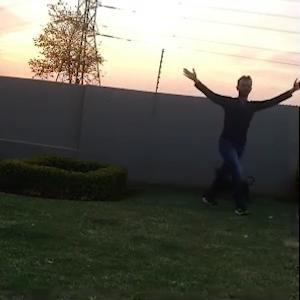takeoff: (178, 75, 291, 201)
